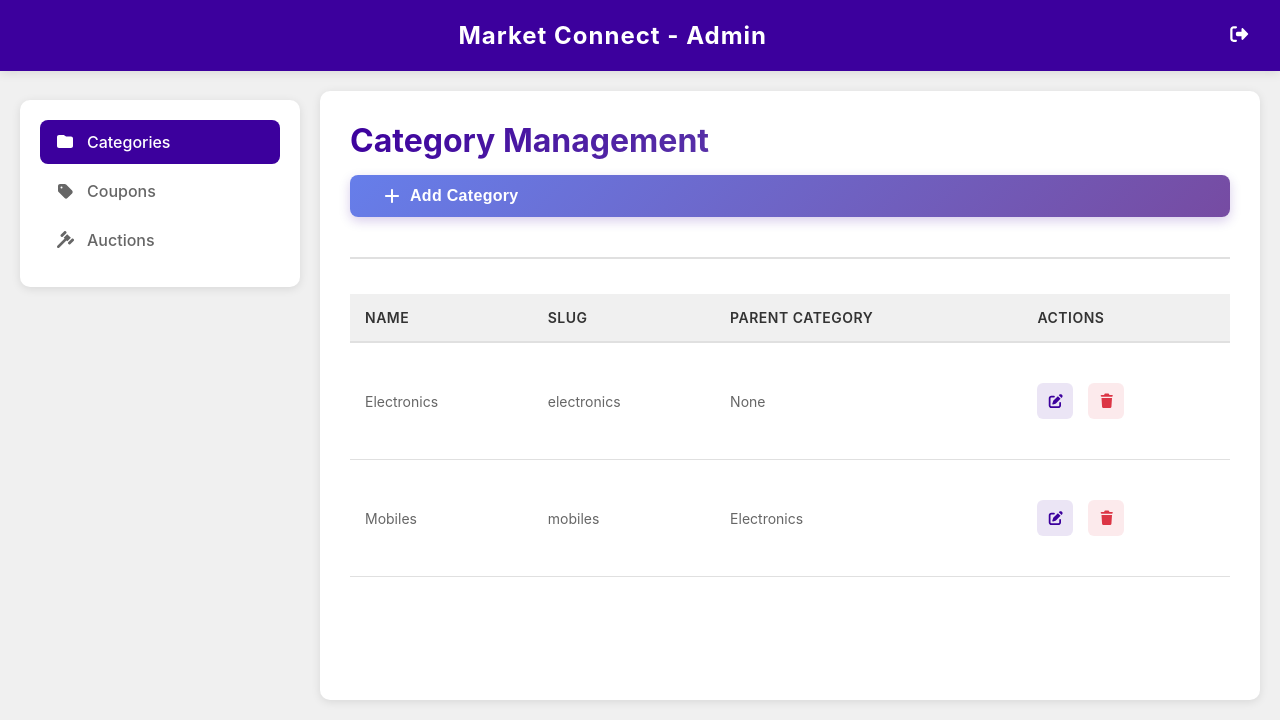
Test case: AdminDashboard Component › navigates to auctions view
Click the text "Auctions": click(121, 240) [87,230,155,250]
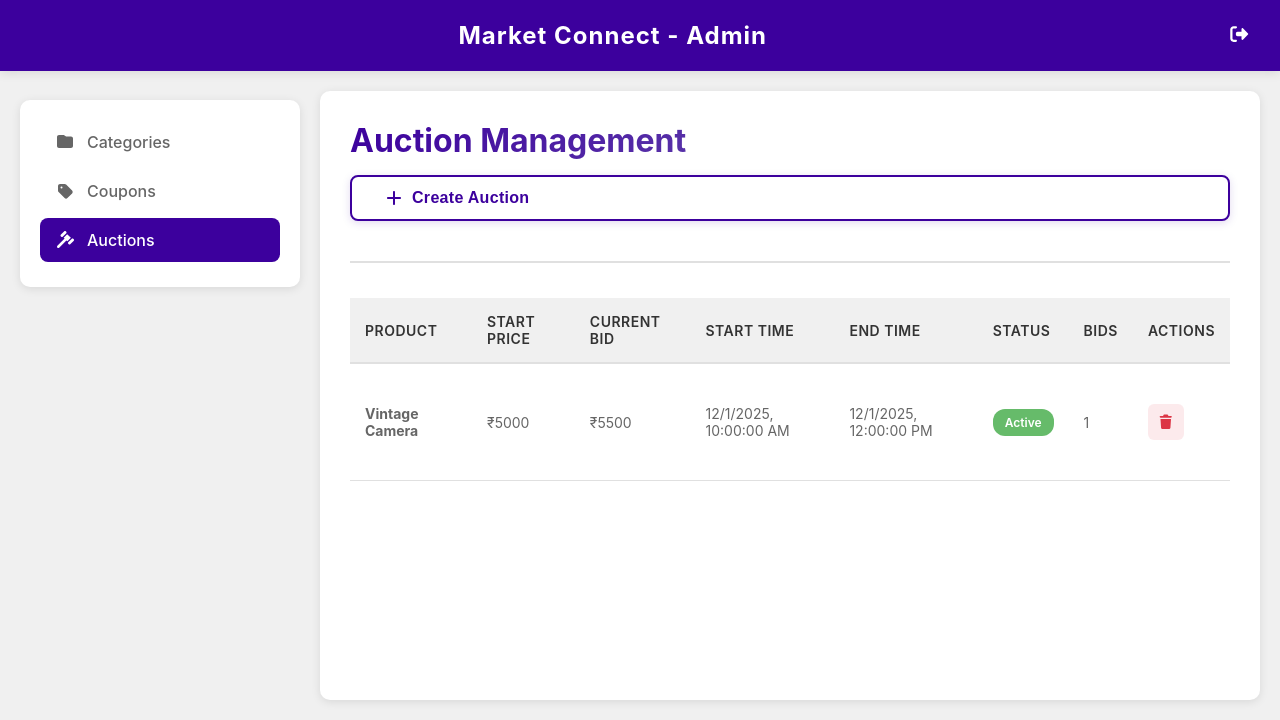
expect the heading "Auction Management" is shown: met, box [350,121,686,160]
